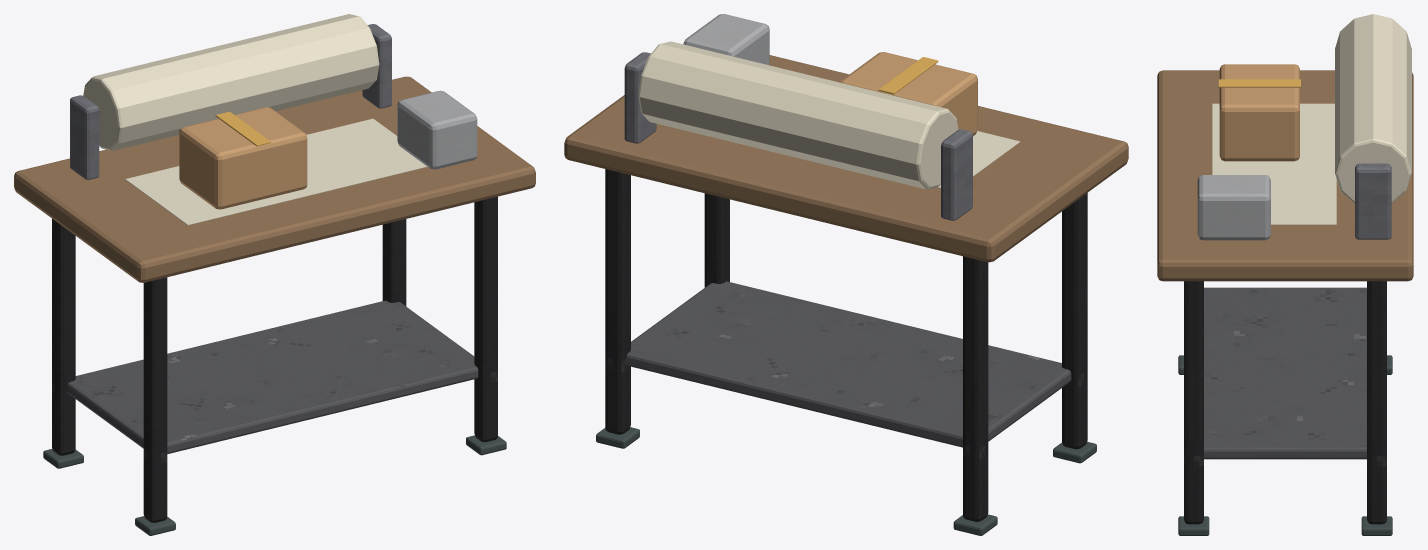
File: lbd_cargo_wrap_station.glb
The picture shows the model from 3 angles, left to right: view 1: azimuth 30°, elevation 25°; view 2: azimuth 150°, elevation 25°; view 3: azimuth 270°, elevation 25°; orthographic projection. The views are drawn at different scales.
Visible parts, largest first — view 1: cargo_wrap_station__worktop_027, cargo_wrap_station__lower shelf_049, cargo_wrap_station__paper roll_034, cargo_wrap_station__parcel_040, cargo_wrap_station__paper sheet_037, cargo_wrap_station__leg_003, cargo_wrap_station__leg_015, cargo_wrap_station__leg_009, cargo_wrap_station__label dispenser_046, cargo_wrap_station__roller bracket_030, cargo_wrap_station__leg_021, cargo_wrap_station__roller bracket_033 (+1 smaller); view 2: cargo_wrap_station__lower shelf_049, cargo_wrap_station__worktop_027, cargo_wrap_station__paper roll_034, cargo_wrap_station__leg_009, cargo_wrap_station__leg_021, cargo_wrap_station__leg_003, cargo_wrap_station__parcel_040, cargo_wrap_station__label dispenser_046, cargo_wrap_station__roller bracket_030, cargo_wrap_station__leg_015, cargo_wrap_station__roller bracket_033, cargo_wrap_station__paper sheet_037 (+1 smaller); view 3: cargo_wrap_station__lower shelf_049, cargo_wrap_station__worktop_027, cargo_wrap_station__paper roll_034, cargo_wrap_station__paper sheet_037, cargo_wrap_station__parcel_040, cargo_wrap_station__leg_015, cargo_wrap_station__leg_021, cargo_wrap_station__label dispenser_046, cargo_wrap_station__roller bracket_033, cargo_wrap_station__tape stripe_043, cargo_wrap_station__rubber foot_018, cargo_wrap_station__rubber foot_024.
Boxes of the visible parts, <box> form: cargo_wrap_station__worktop_027: <box>14,76,535,282</box>; cargo_wrap_station__lower shelf_049: <box>67,300,478,453</box>; cargo_wrap_station__paper roll_034: <box>83,14,379,150</box>; cargo_wrap_station__parcel_040: <box>179,107,307,209</box>; cargo_wrap_station__paper sheet_037: <box>125,118,427,225</box>; cargo_wrap_station__leg_003: <box>143,277,167,522</box>; cargo_wrap_station__leg_015: <box>474,196,497,442</box>; cargo_wrap_station__leg_009: <box>52,218,75,455</box>; cargo_wrap_station__label dispenser_046: <box>397,90,477,169</box>; cargo_wrap_station__roller bracket_030: <box>70,95,99,179</box>; cargo_wrap_station__leg_021: <box>382,219,406,306</box>; cargo_wrap_station__roller bracket_033: <box>362,24,391,108</box>; cargo_wrap_station__lower shelf_049: <box>626,281,1071,447</box>; cargo_wrap_station__worktop_027: <box>564,55,1128,262</box>; cargo_wrap_station__paper roll_034: <box>638,41,958,189</box>; cargo_wrap_station__leg_009: <box>963,256,988,521</box>; cargo_wrap_station__leg_021: <box>605,169,630,434</box>; cargo_wrap_station__leg_003: <box>1062,193,1087,449</box>; cargo_wrap_station__parcel_040: <box>840,52,977,135</box>; cargo_wrap_station__label dispenser_046: <box>683,14,769,65</box>; cargo_wrap_station__roller bracket_030: <box>941,129,972,220</box>; cargo_wrap_station__leg_015: <box>704,193,729,287</box>; cargo_wrap_station__roller bracket_033: <box>624,52,656,143</box>; cargo_wrap_station__paper sheet_037: <box>936,131,1020,188</box>; cargo_wrap_station__lower shelf_049: <box>1204,287,1366,459</box>; cargo_wrap_station__worktop_027: <box>1157,70,1413,281</box>; cargo_wrap_station__paper roll_034: <box>1335,14,1411,203</box>; cargo_wrap_station__paper sheet_037: <box>1212,103,1336,224</box>; cargo_wrap_station__parcel_040: <box>1219,64,1299,161</box>; cargo_wrap_station__leg_015: <box>1184,281,1203,524</box>; cargo_wrap_station__leg_021: <box>1367,281,1386,524</box>; cargo_wrap_station__label dispenser_046: <box>1197,175,1270,240</box>; cargo_wrap_station__roller bracket_033: <box>1355,163,1391,239</box>; cargo_wrap_station__tape stripe_043: <box>1218,79,1300,87</box>; cargo_wrap_station__rubber foot_018: <box>1178,516,1209,535</box>; cargo_wrap_station__rubber foot_024: <box>1361,516,1392,535</box>.
Size of the model in its own units: 1.25 by 1.12 by 0.7.
9 materials, 4 textured.
